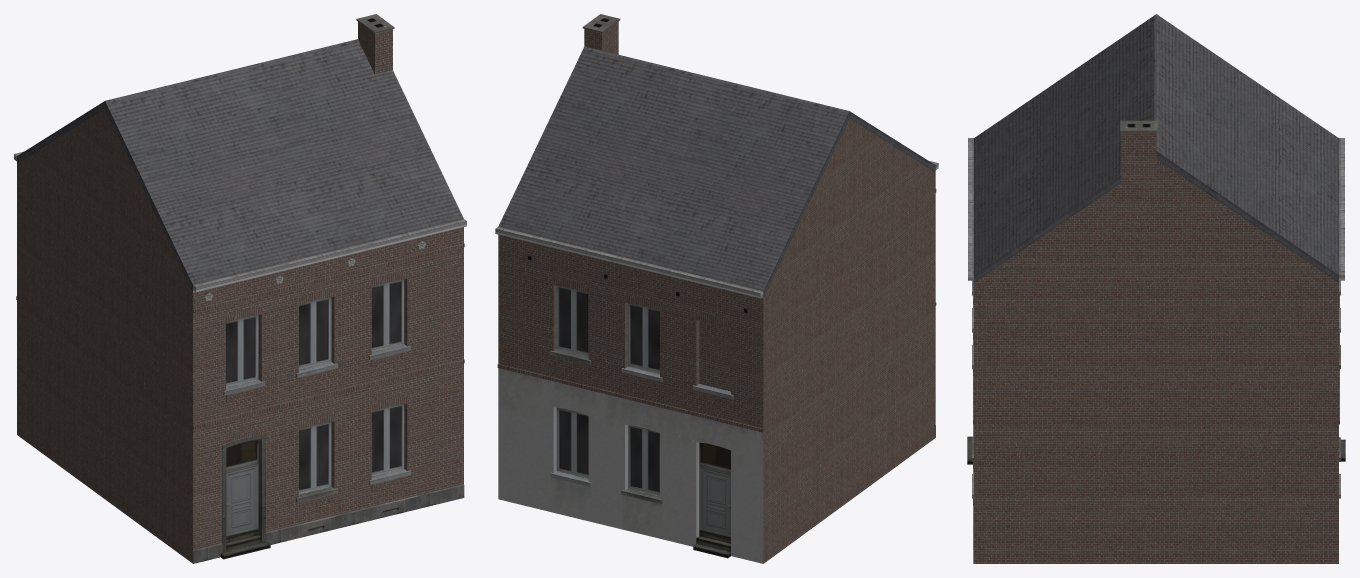
Rendered from nivelles_house_5_belgium.glb.
3 renders of one model, left to right at view 1: azimuth 30°, elevation 25°; view 2: azimuth 150°, elevation 25°; view 3: azimuth 270°, elevation 25°, orthographic. The views are drawn at different scales.
Parts seen in each view (by area): view 1: 2_main_0; view 2: 2_main_0; view 3: 2_main_0.
Part boxes in pixels (x1,y1,x2,y2): 2_main_0: (14,14,466,563); 2_main_0: (495,14,938,563); 2_main_0: (967,14,1345,563).
Bounding box in the file's own units: 8.03 × 11.81 × 9.33.
1 material, 1 textured.
